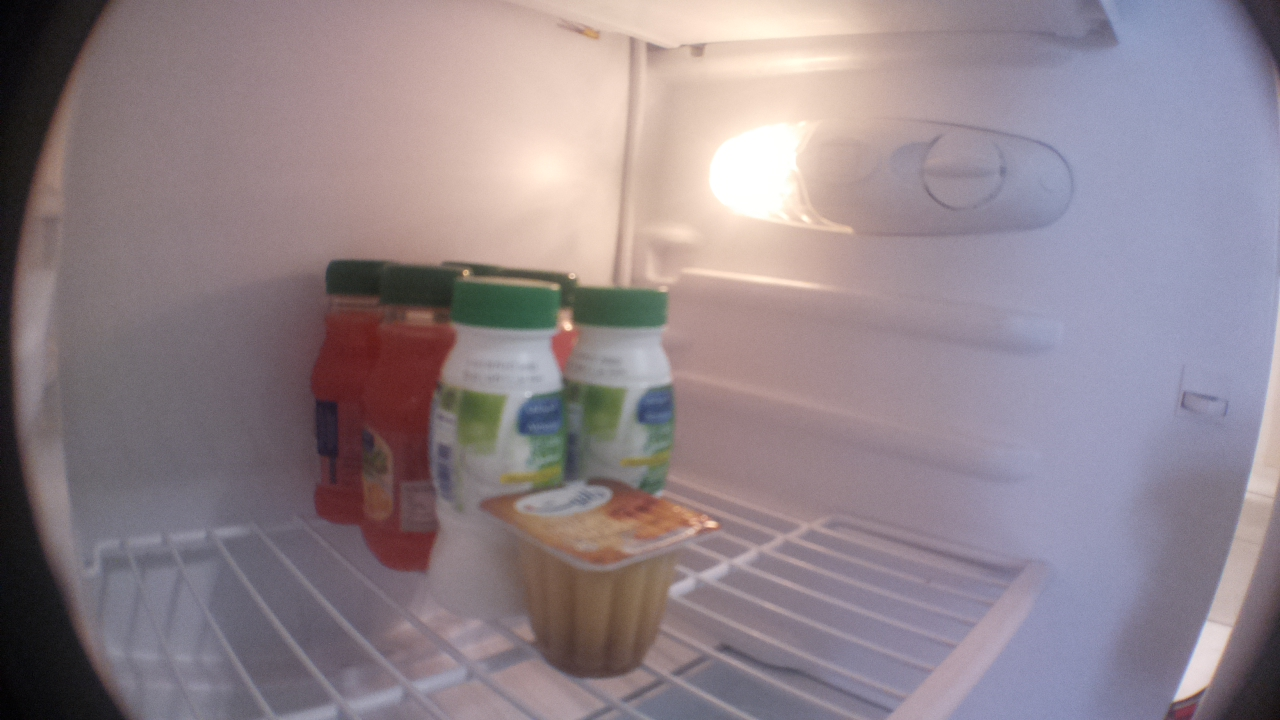caramel: (475, 461, 727, 684)
juice: (360, 262, 472, 576), (300, 253, 382, 532), (548, 266, 589, 362)
laban: (429, 278, 563, 621), (562, 279, 686, 496)
